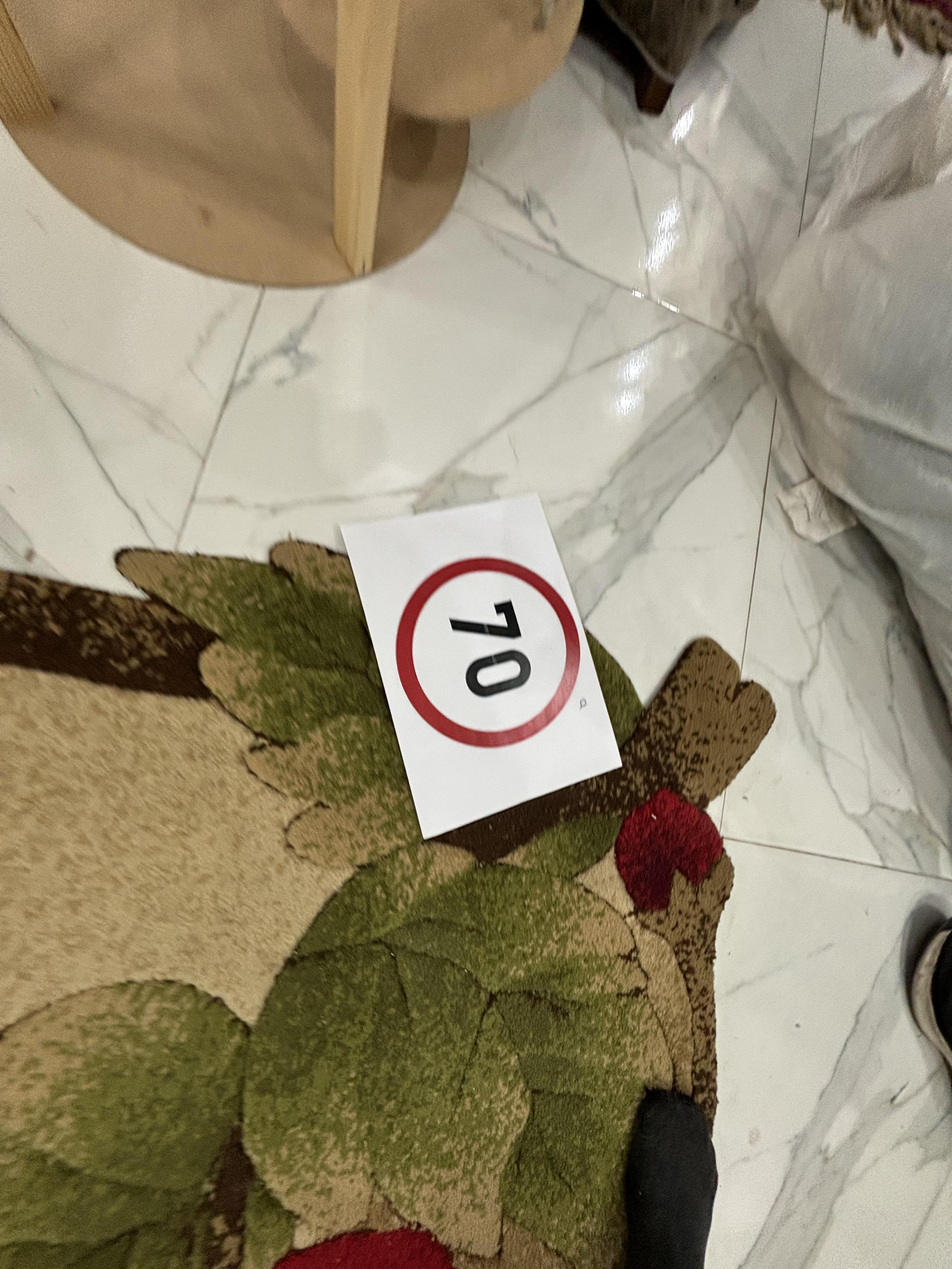70-Speed: (392, 555, 592, 747)
